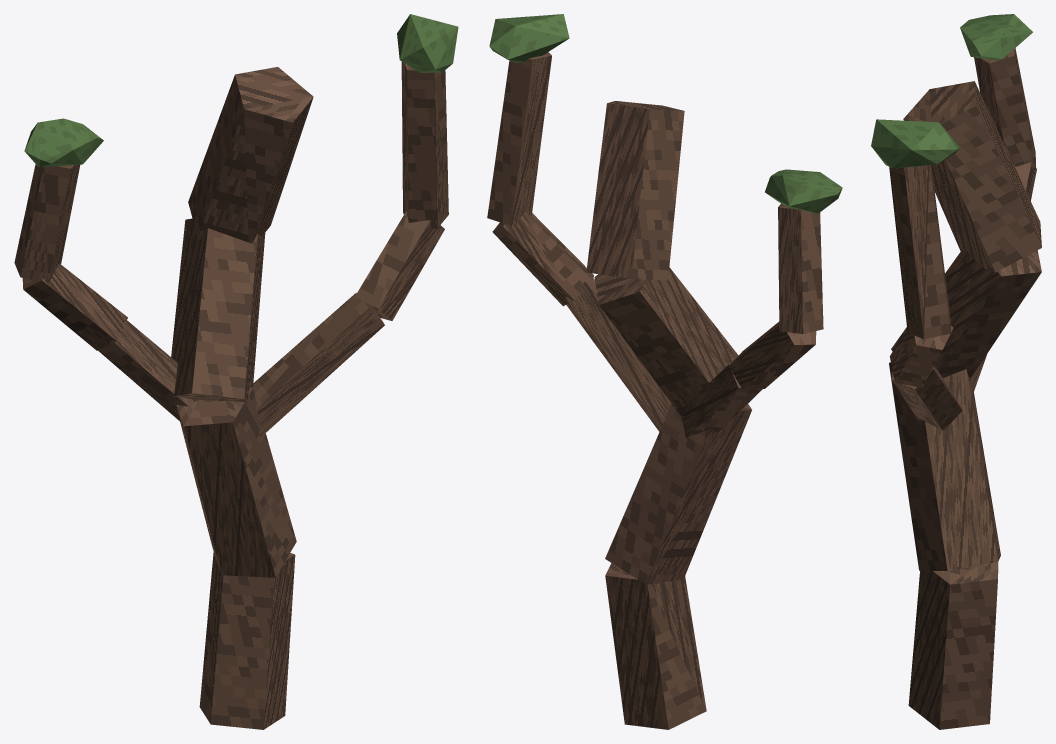
File: f_mutant_tree_sapling.glb
3 renders of one model, left to right at view 1: azimuth 30°, elevation 25°; view 2: azimuth 150°, elevation 25°; view 3: azimuth 270°, elevation 25°, orthographic. The views are drawn at different scales.
Parts seen in each view (by area): view 1: block_gnarled-trunk-2, block_gnarled-trunk-4, block_gnarled-trunk-3, block_gnarled-trunk-1, block_upturned-branch-3 (×2), block_upturned-branch-1 (×2), block_upturned-branch-2 (×2), block_bud-cluster (×2); view 2: block_gnarled-trunk-4, block_gnarled-trunk-2, block_upturned-branch-3 (×2), block_gnarled-trunk-1, block_gnarled-trunk-3, block_upturned-branch-2 (×2), block_upturned-branch-1 (×2), block_bud-cluster (×2); view 3: block_gnarled-trunk-2, block_gnarled-trunk-4, block_gnarled-trunk-1, block_upturned-branch-3 (×2), block_gnarled-trunk-3, block_bud-cluster (×2), block_upturned-branch-2 (×2), block_upturned-branch-1.
Part boxes in pixels (x1=…): block_gnarled-trunk-2: x1=176, y1=387, x2=296, y2=577; block_gnarled-trunk-4: x1=188, y1=67, x2=313, y2=243; block_gnarled-trunk-3: x1=171, y1=218, x2=265, y2=402; block_gnarled-trunk-1: x1=199, y1=552, x2=295, y2=729; block_upturned-branch-3 (×2): x1=14, y1=61, x2=448, y2=282; block_upturned-branch-1 (×2): x1=98, y1=293, x2=384, y2=437; block_upturned-branch-2 (×2): x1=22, y1=211, x2=444, y2=350; block_bud-cluster (×2): x1=24, y1=14, x2=458, y2=167; block_gnarled-trunk-4: x1=586, y1=101, x2=684, y2=280; block_gnarled-trunk-2: x1=605, y1=404, x2=751, y2=584; block_upturned-branch-3 (×2): x1=487, y1=52, x2=823, y2=333; block_gnarled-trunk-1: x1=605, y1=563, x2=706, y2=729; block_gnarled-trunk-3: x1=594, y1=267, x2=738, y2=418; block_upturned-branch-2 (×2): x1=492, y1=212, x2=816, y2=389; block_upturned-branch-1 (×2): x1=565, y1=279, x2=762, y2=438; block_bud-cluster (×2): x1=489, y1=14, x2=842, y2=213; block_gnarled-trunk-2: x1=889, y1=362, x2=1000, y2=570; block_gnarled-trunk-4: x1=903, y1=81, x2=1041, y2=272; block_gnarled-trunk-1: x1=908, y1=562, x2=998, y2=729; block_upturned-branch-3 (×2): x1=889, y1=48, x2=1035, y2=339; block_gnarled-trunk-3: x1=891, y1=248, x2=1041, y2=378; block_bud-cluster (×2): x1=871, y1=14, x2=1032, y2=168; block_upturned-branch-2 (×2): x1=889, y1=162, x2=1036, y2=387; block_upturned-branch-1: x1=891, y1=366, x2=962, y2=430.
Bounding box in the file's own units: 0.8645 × 1.41 × 0.3259.
Materials: 1 (1 with a texture image).
